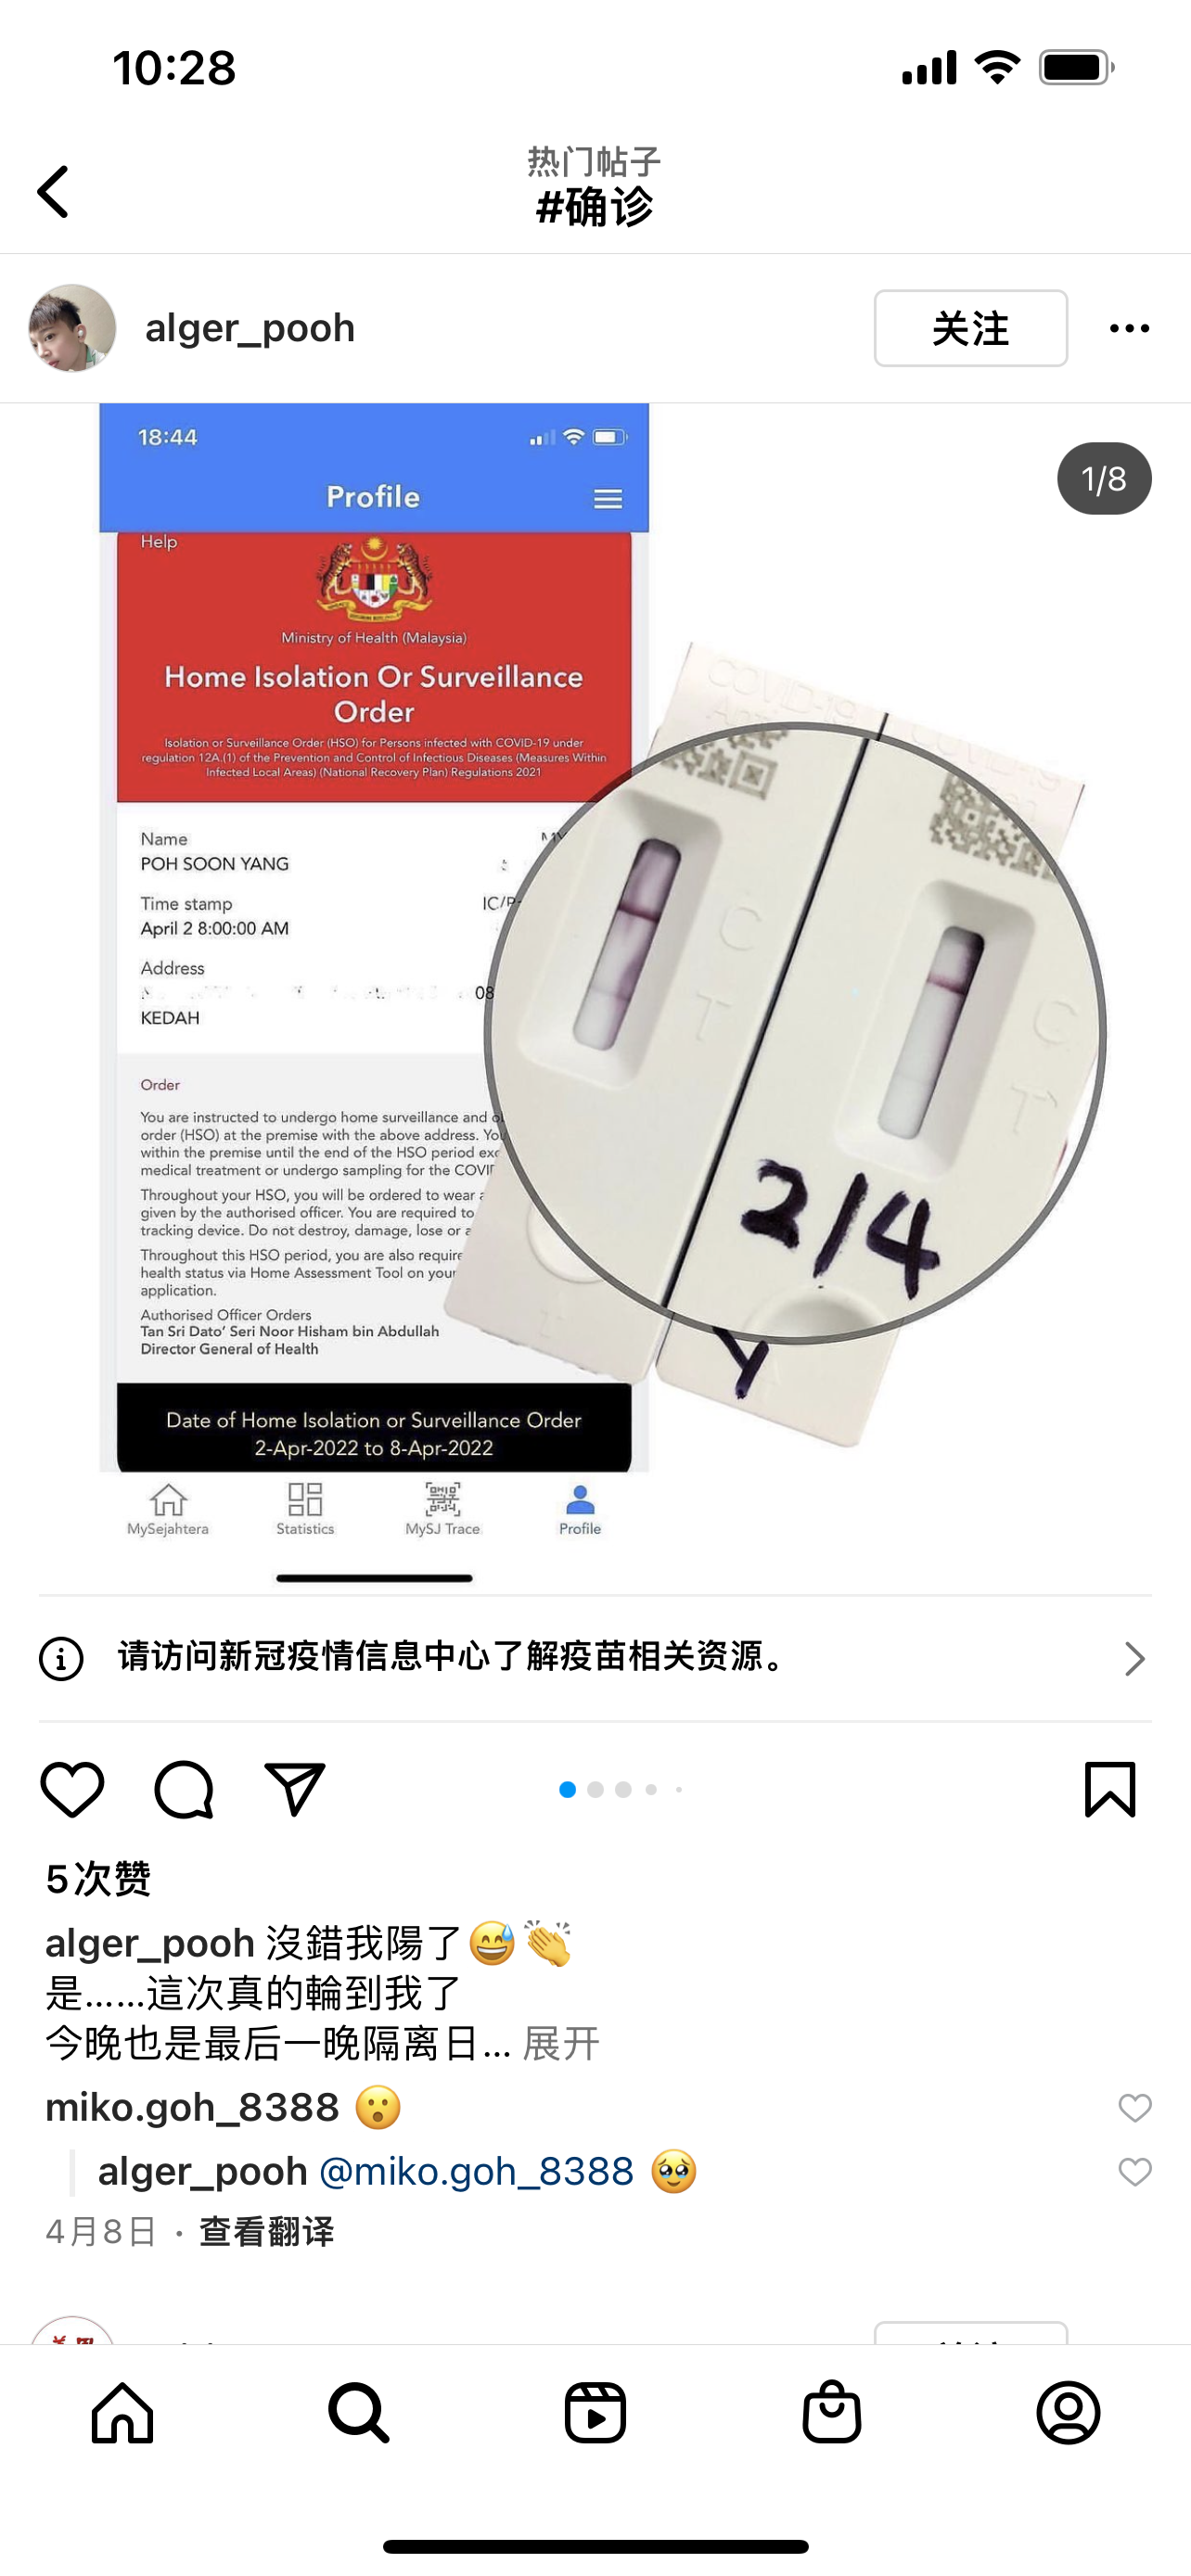positive: (598, 795, 690, 1074), (894, 918, 974, 1134)
